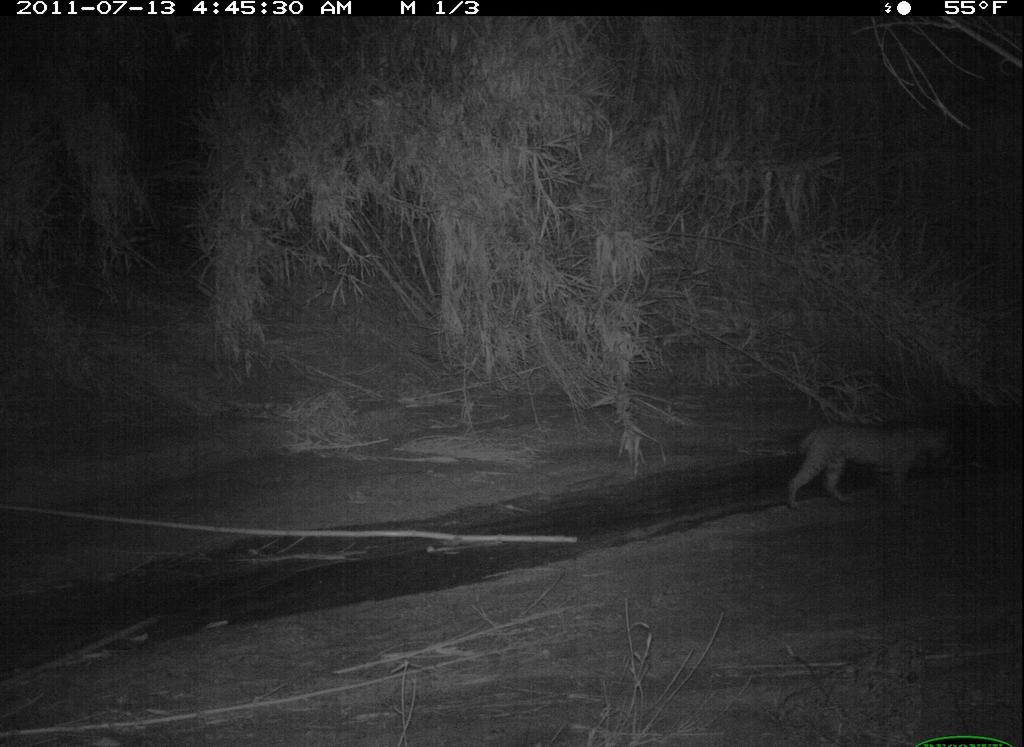bobcat: (774, 410, 963, 524)
